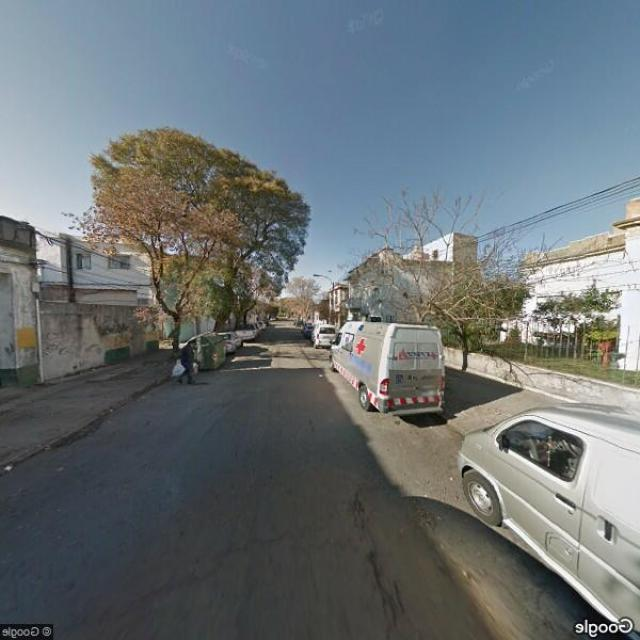garbage container: (176, 329, 231, 386)
